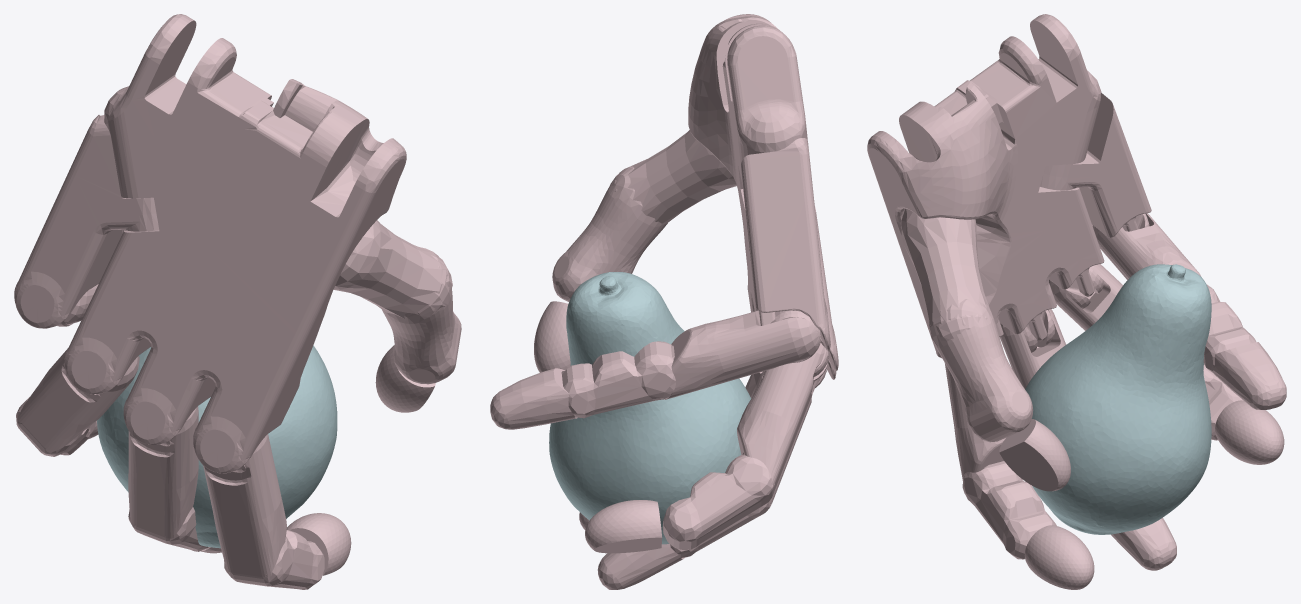
The model's file is grasp_9.glb.
The picture shows the model from 3 angles, left to right: view 1: azimuth 30°, elevation 25°; view 2: azimuth 150°, elevation 25°; view 3: azimuth 270°, elevation 25°; orthographic projection. The views are drawn at different scales.
Parts seen in each view (by area): view 1: world; view 2: world; view 3: world.
Boxes of the visible parts, bbox=[...] form: world: bbox=[14, 14, 461, 589]; world: bbox=[490, 14, 838, 589]; world: bbox=[867, 14, 1286, 589].
Bounding box in the file's own units: 0.1226 × 0.1891 × 0.1413.
